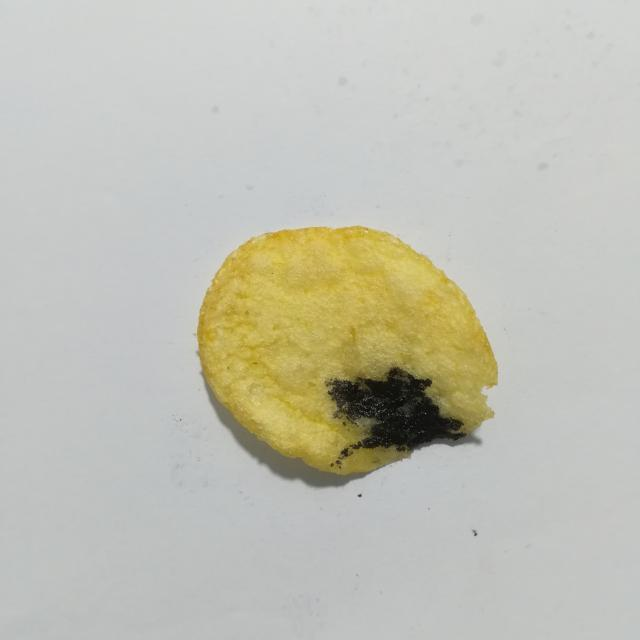chip: (197, 226, 497, 474)
damaged: (326, 367, 466, 467), (342, 421, 346, 426)
